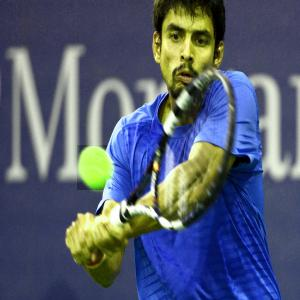TennisBall: (78, 146, 115, 192)
